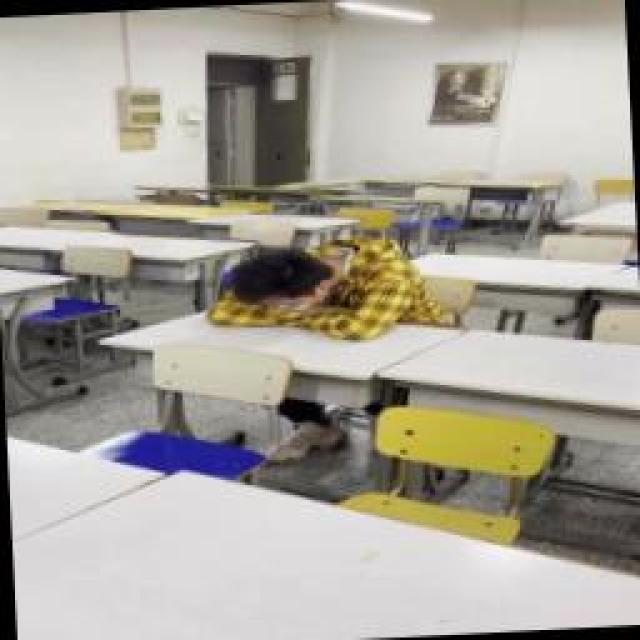sleep: (210, 227, 445, 355)
